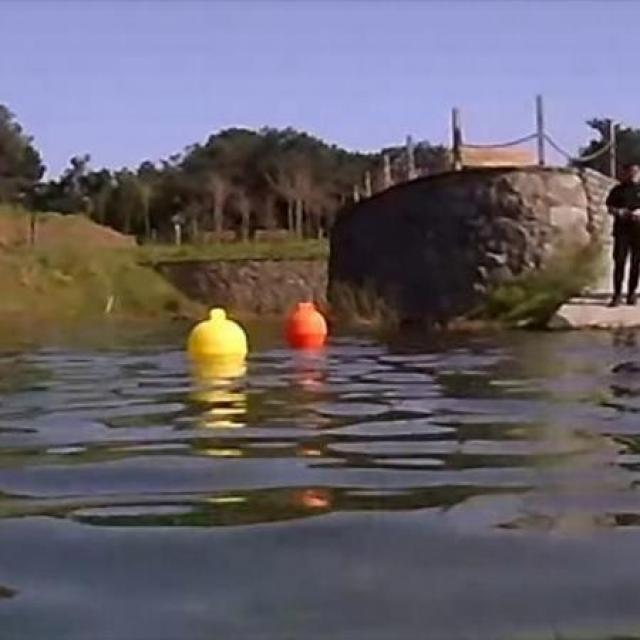buoy: (186, 306, 250, 365), (284, 300, 328, 349)
